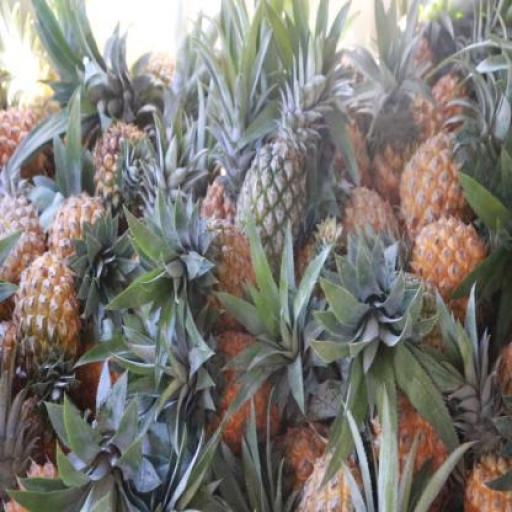Pineapple - v8 v1: (19, 256, 81, 382), (402, 140, 472, 242), (411, 219, 483, 308)
